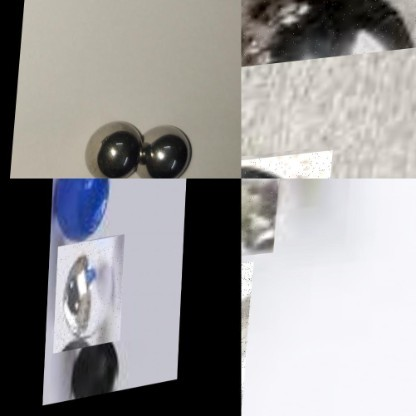ironball: (241, 0, 415, 78), (54, 238, 125, 355), (241, 178, 285, 261), (86, 118, 142, 175), (139, 120, 196, 175), (241, 263, 256, 415)
